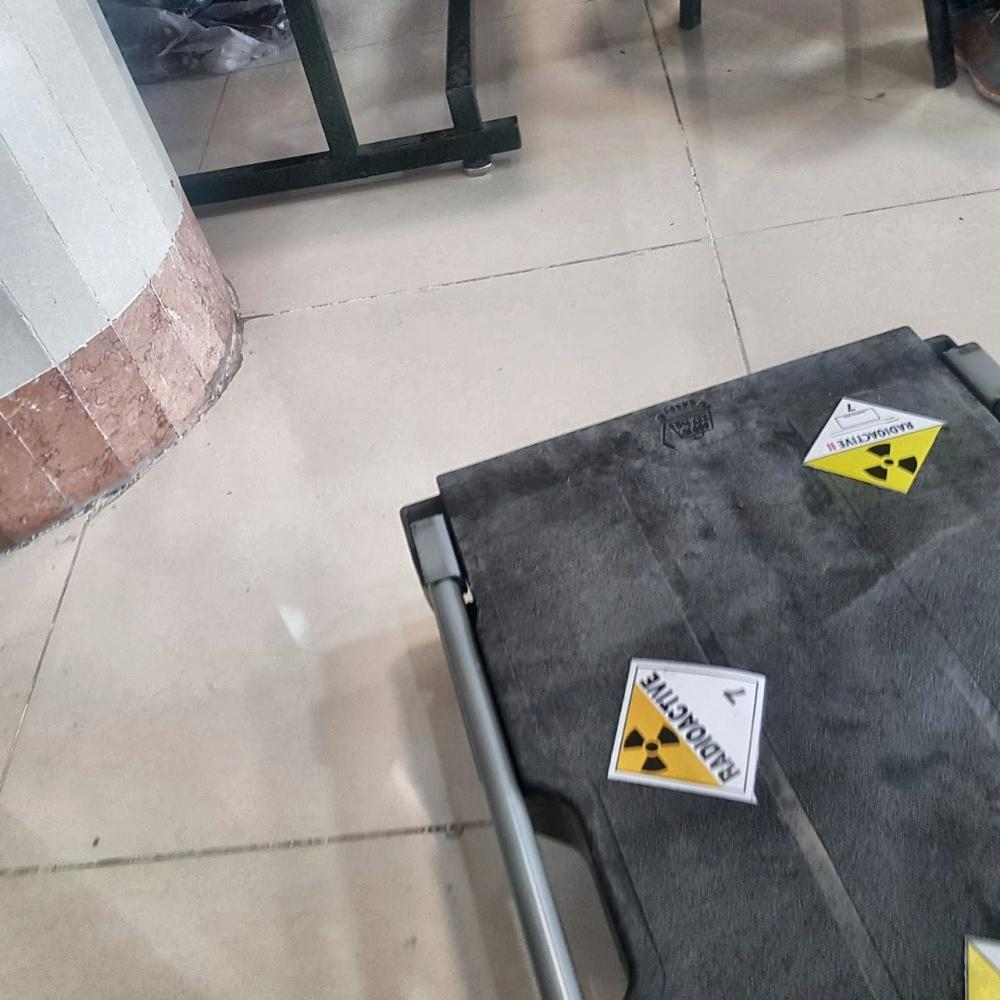radioactive: (605, 653, 770, 809), (804, 391, 949, 499)
